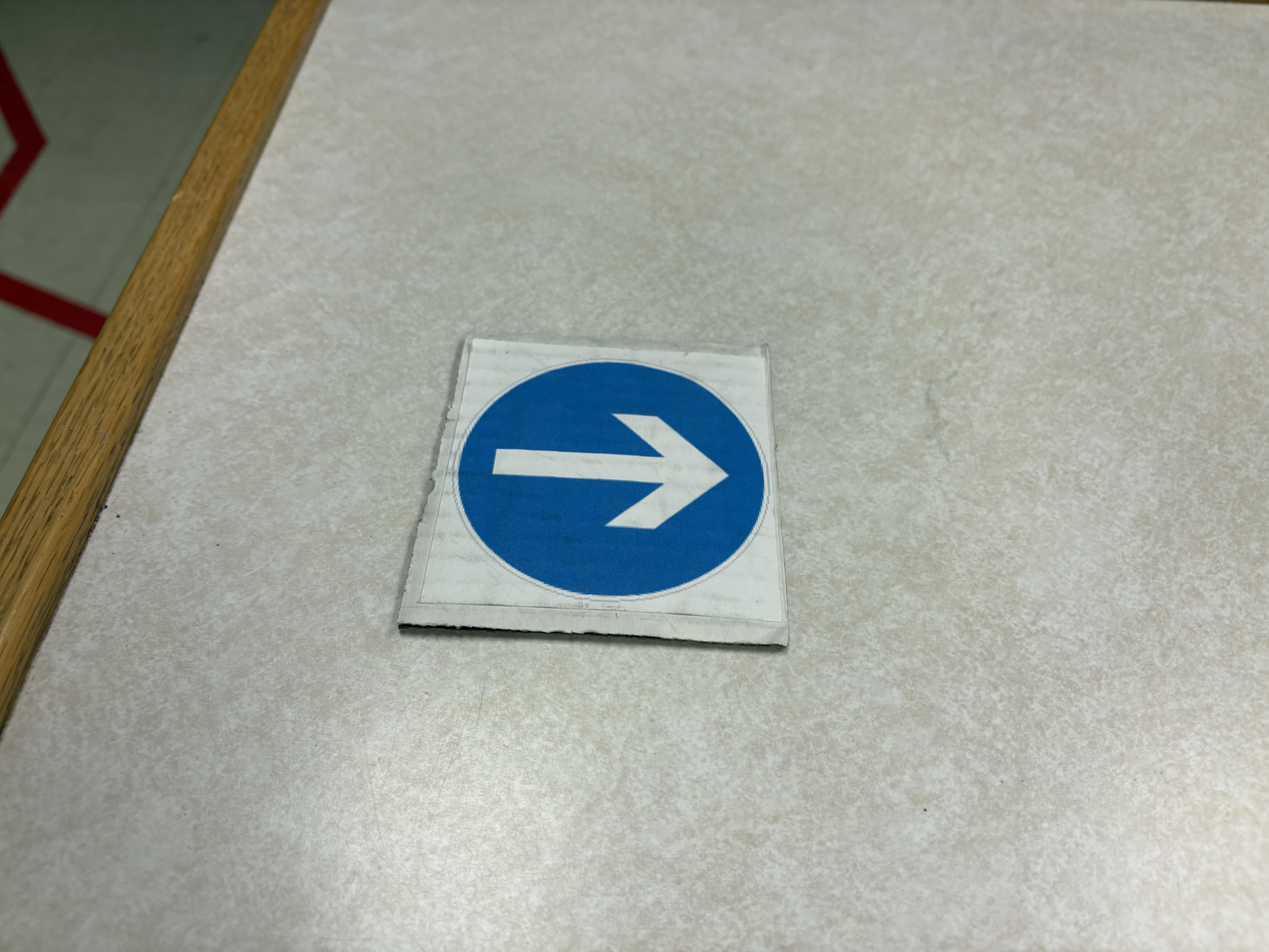Proceed Right: (400, 335, 791, 641)
